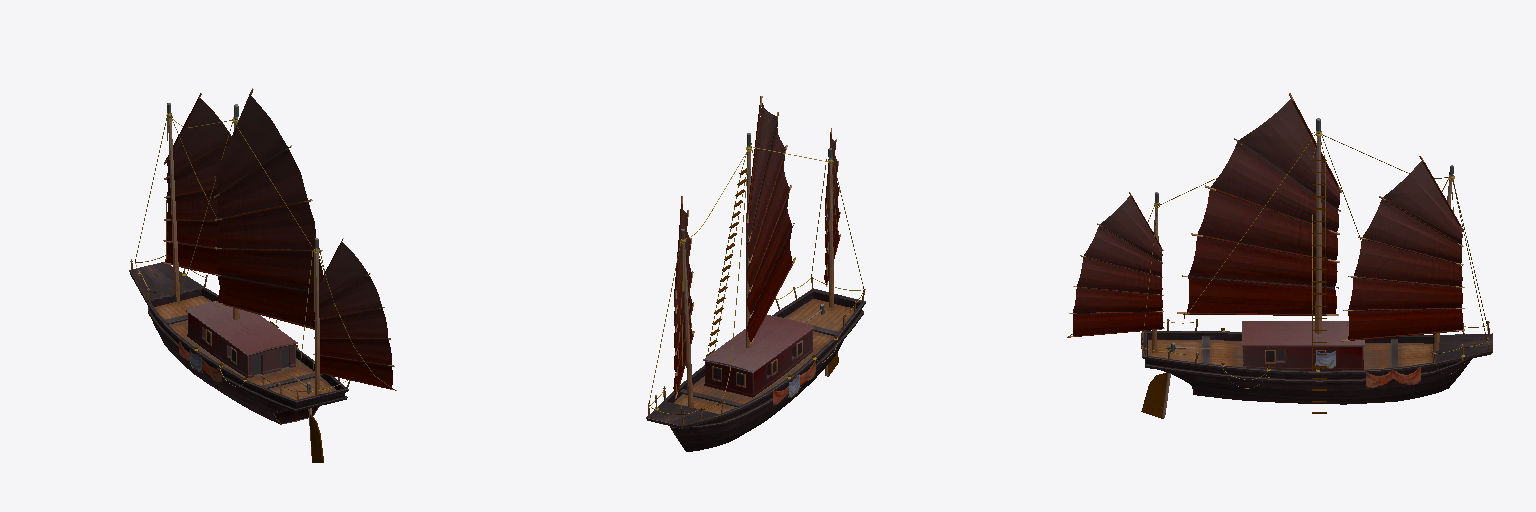
3 renders of one model, left to right at view 1: azimuth 30°, elevation 25°; view 2: azimuth 150°, elevation 25°; view 3: azimuth 270°, elevation 25°, orthographic.
Visible parts, largest first — view 1: SM_BoatJunk_01_ID29; view 2: SM_BoatJunk_01_ID29; view 3: SM_BoatJunk_01_ID29.
Part boxes in pixels (x1,y1,x2,y2): SM_BoatJunk_01_ID29: (129,88,396,462); SM_BoatJunk_01_ID29: (646,96,865,451); SM_BoatJunk_01_ID29: (1067,93,1492,418).
Size of the model in its own units: 10.36 by 36.51 by 43.18.
Materials: 1 (1 with a texture image).